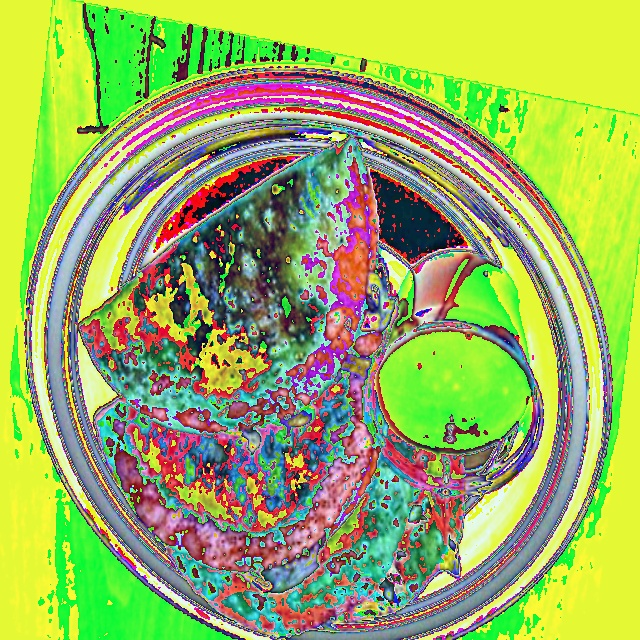background: (77, 137, 532, 638)
